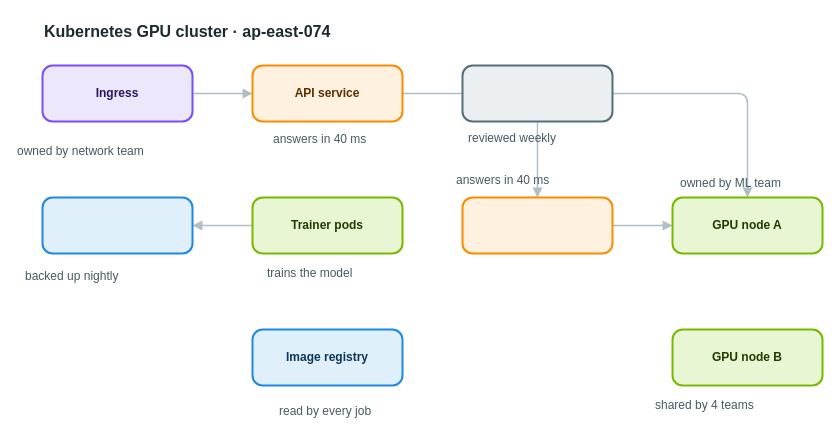
The diagram is 840 pixels wide and 436 high, and some of its shapes have lost their labels. The shapes that lost their labels are listed below. From the top down, each one's centre as x and y in pixels, then its label:
At [537,93]: "GPU operator".
At [117,225]: "Volumes".
At [537,225]: "Inference pods".
